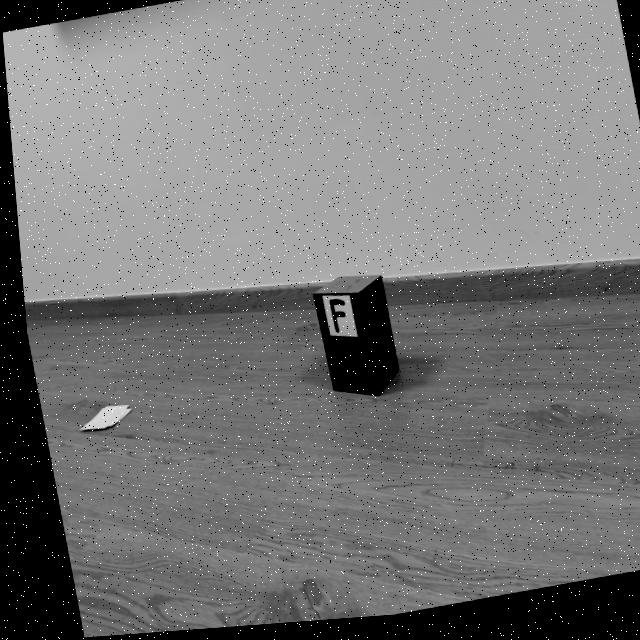F: (323, 302, 340, 337)
